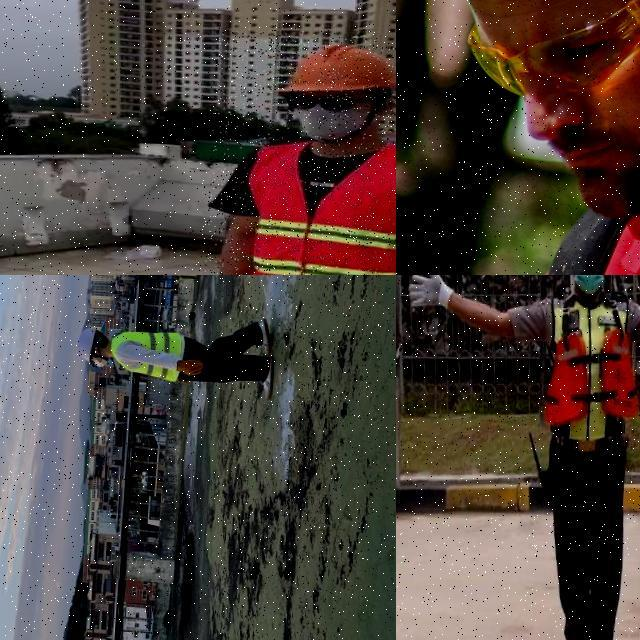boots: (256, 356, 276, 404), (253, 317, 274, 356)
helmet: (274, 37, 396, 101), (75, 326, 99, 364)
vest: (234, 139, 396, 275), (540, 292, 640, 445), (108, 328, 186, 387)
